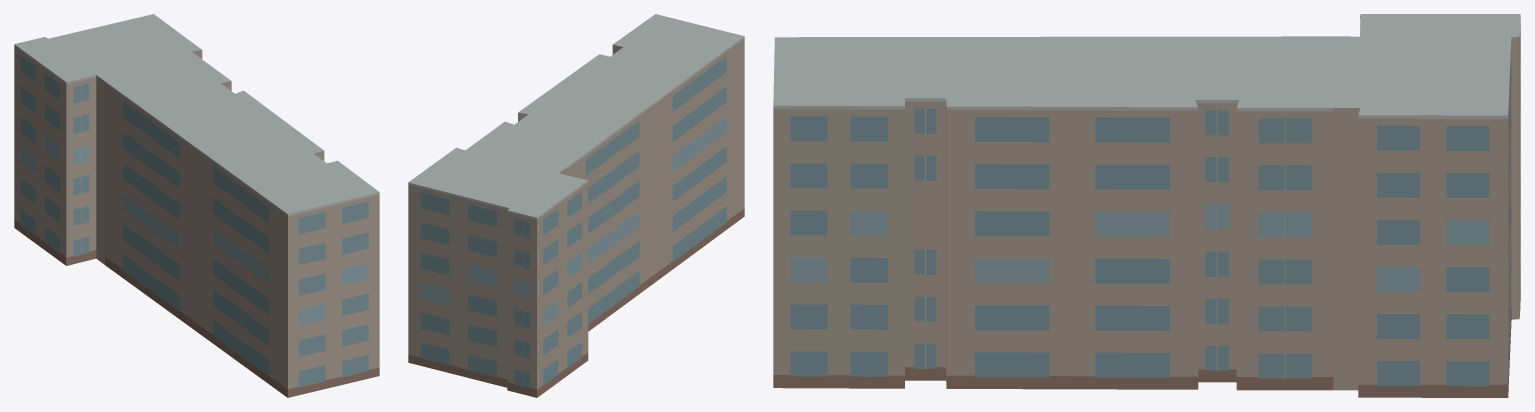
The model's file is survey-upis-32736683.glb.
The picture shows the model from 3 angles, left to right: view 1: azimuth 30°, elevation 25°; view 2: azimuth 150°, elevation 25°; view 3: azimuth 270°, elevation 25°; orthographic projection. The views are drawn at different scales.
Visible parts, largest first — view 1: survey-upis-32736683.tmp; view 2: survey-upis-32736683.tmp; view 3: survey-upis-32736683.tmp.
Part boxes in pixels (box(x1,y1,x2,y2)): survey-upis-32736683.tmp: box(14, 14, 379, 397); survey-upis-32736683.tmp: box(408, 14, 744, 397); survey-upis-32736683.tmp: box(773, 14, 1520, 397).
Bounding box in the file's own units: 15.65 × 20.27 × 48.63.
